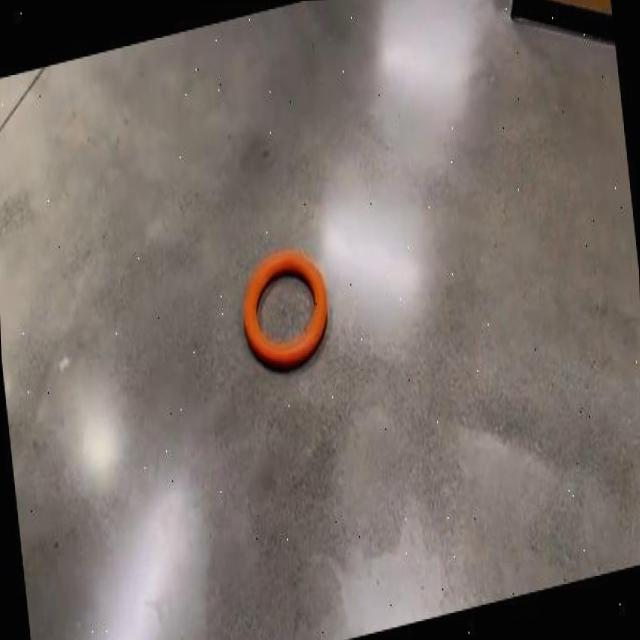note: (242, 249, 327, 368)
